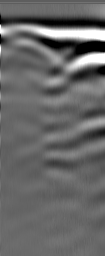pipe: (5, 24, 48, 52)
